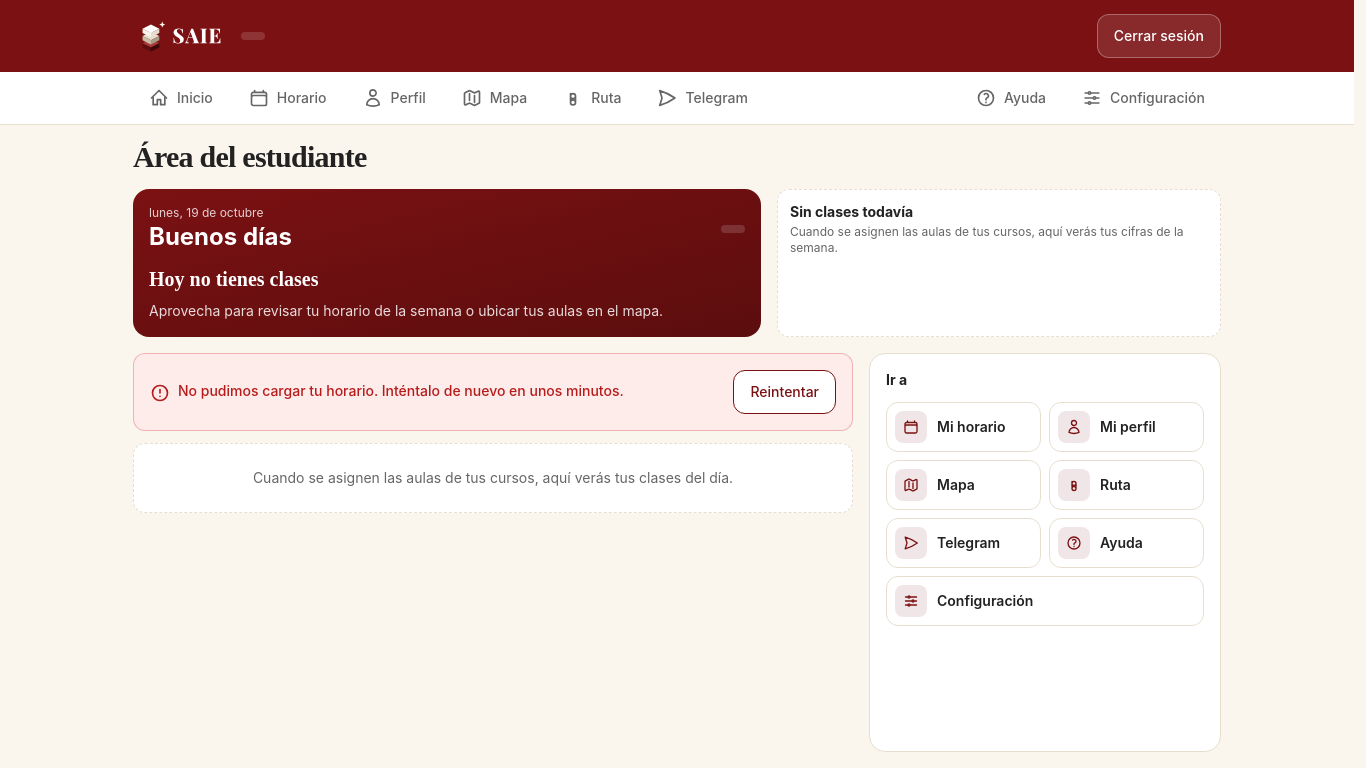
Test: InicioEstudiante › sin horario disponible › si la API falla, avisa del error y permite reintentar
Expected: the message shows "No pudimos cargar tu horario.", top-left (178, 382), bottom-right (624, 399)
What coordinates should you click on to do the following:
click the button "Reintentar"
I would click on:
 (785, 392)
Its box is top-left (734, 370), bottom-right (836, 414).
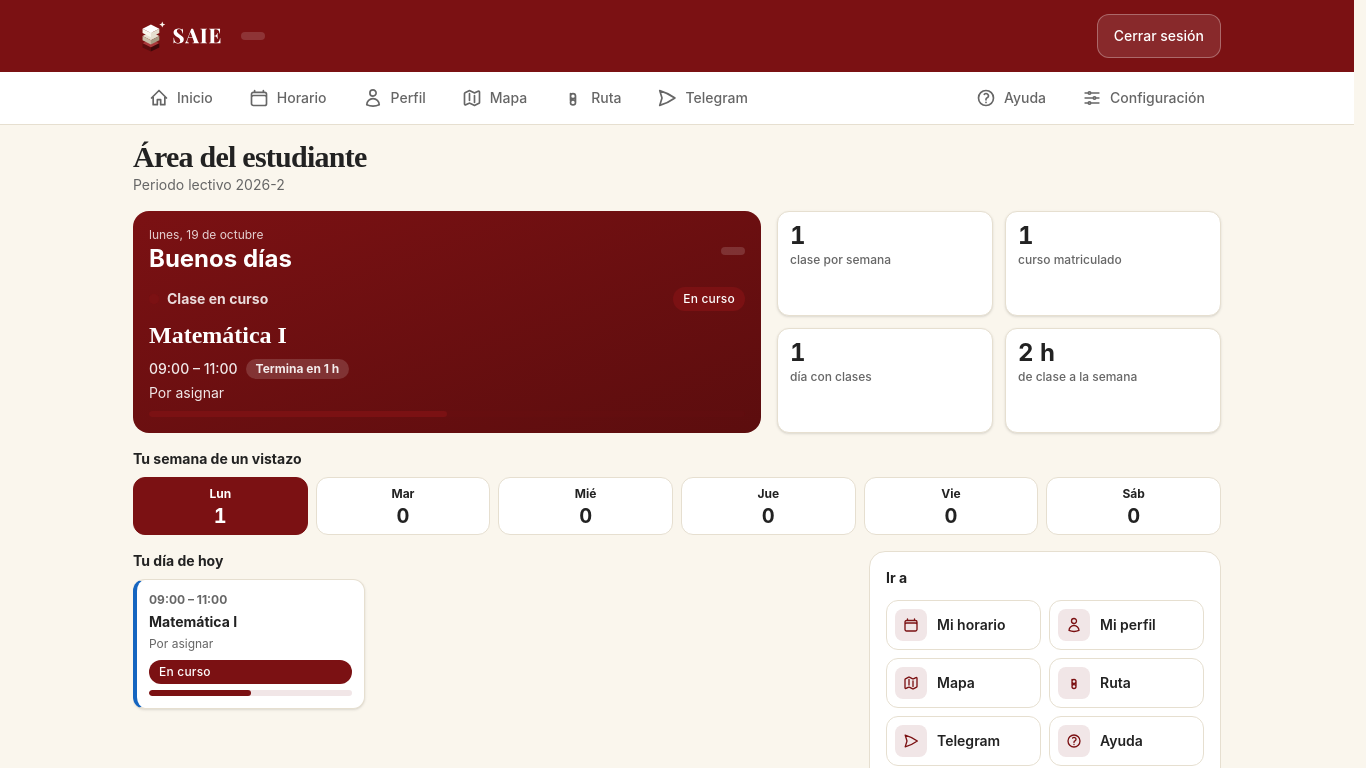
Now the text "Clase en curso" is shown, box top-left (149, 289), bottom-right (268, 309)
Now the message "No pudimos cargar tu horario. Inténtalo de nuevo en unos minutos. Reintentar" is gone
